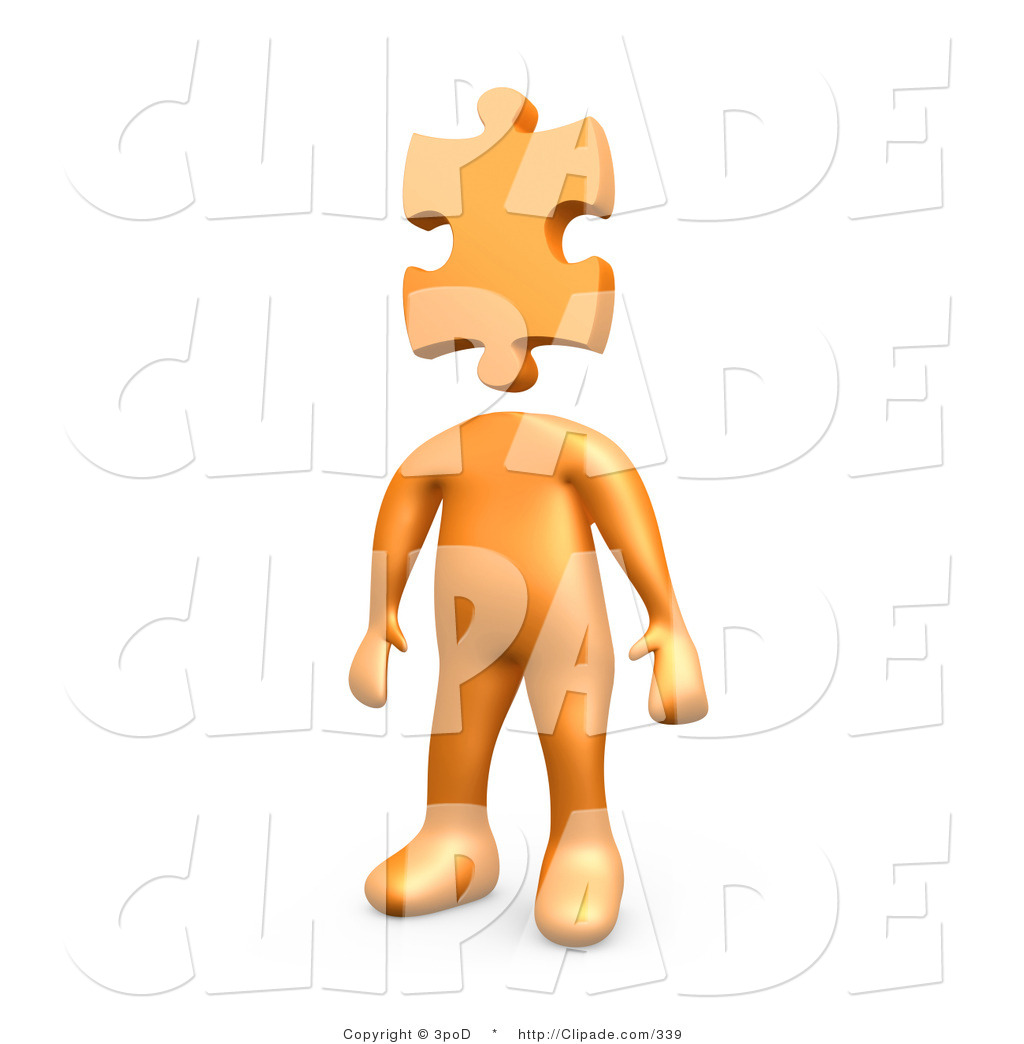puzzle piece: (387, 70, 643, 395)
